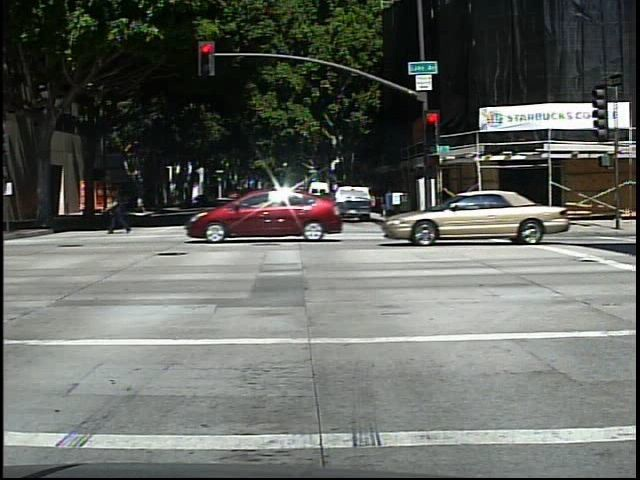person: (103, 184, 133, 236)
